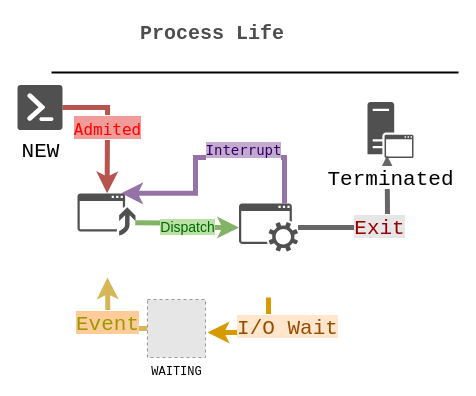
This 476x396 diagram has some shape labels left out. Grey dashed boxes stand in for pictures. Each missing label, with the centre of its shape:
"Ready" belongs at (x=106, y=214).
"RUNNING" belongs at (x=268, y=227).
